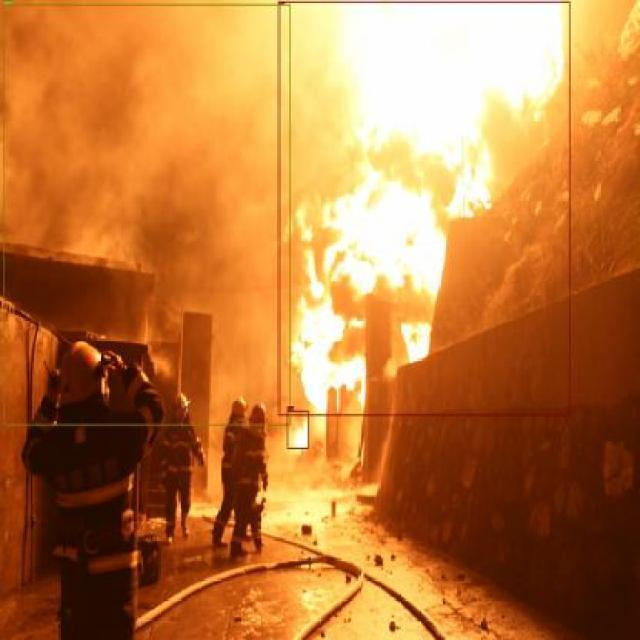Fire: (278, 2, 570, 416), (286, 410, 308, 448)
Smoke: (3, 3, 291, 426)
